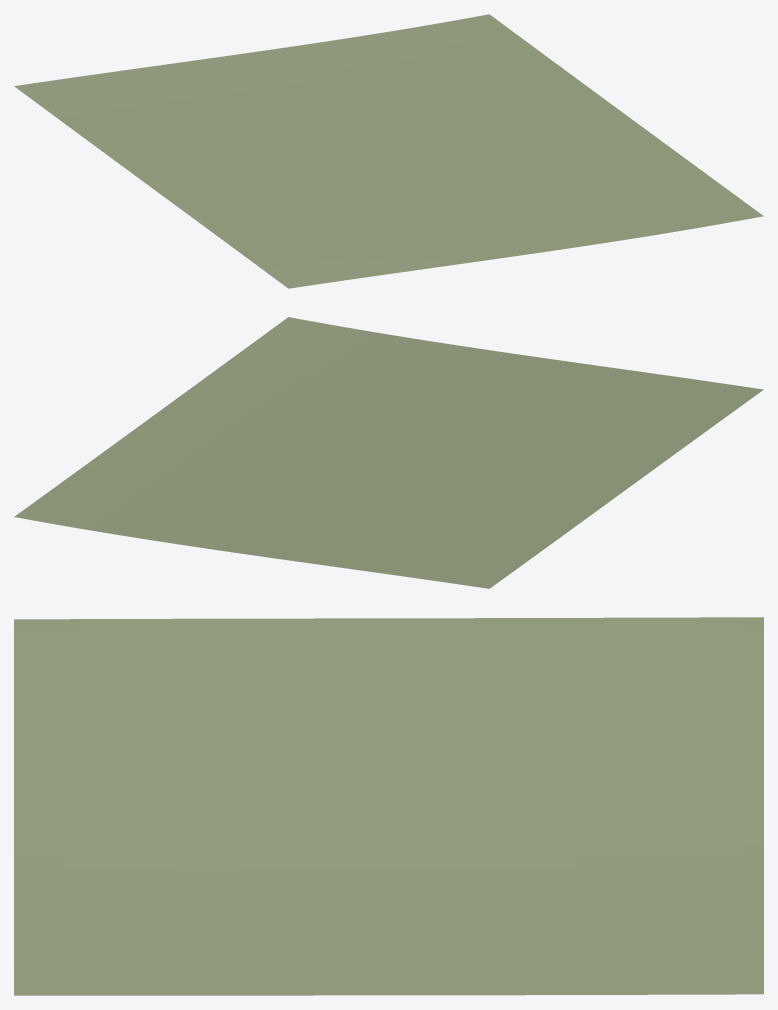
The model's file is valley-3-5.glb.
The picture shows the model from 3 angles, top to bottom: view 1: azimuth 30°, elevation 25°; view 2: azimuth 150°, elevation 25°; view 3: azimuth 270°, elevation 25°; orthographic projection. The views are drawn at different scales.
Visible parts, largest first — view 1: valley-3-5; view 2: valley-3-5; view 3: valley-3-5.
Part boxes in pixels (<box>): valley-3-5: <box>14,14,763,288</box>; valley-3-5: <box>14,317,763,588</box>; valley-3-5: <box>14,617,763,995</box>.
Bounding box in the file's own units: 256 × 23.2 × 256.
